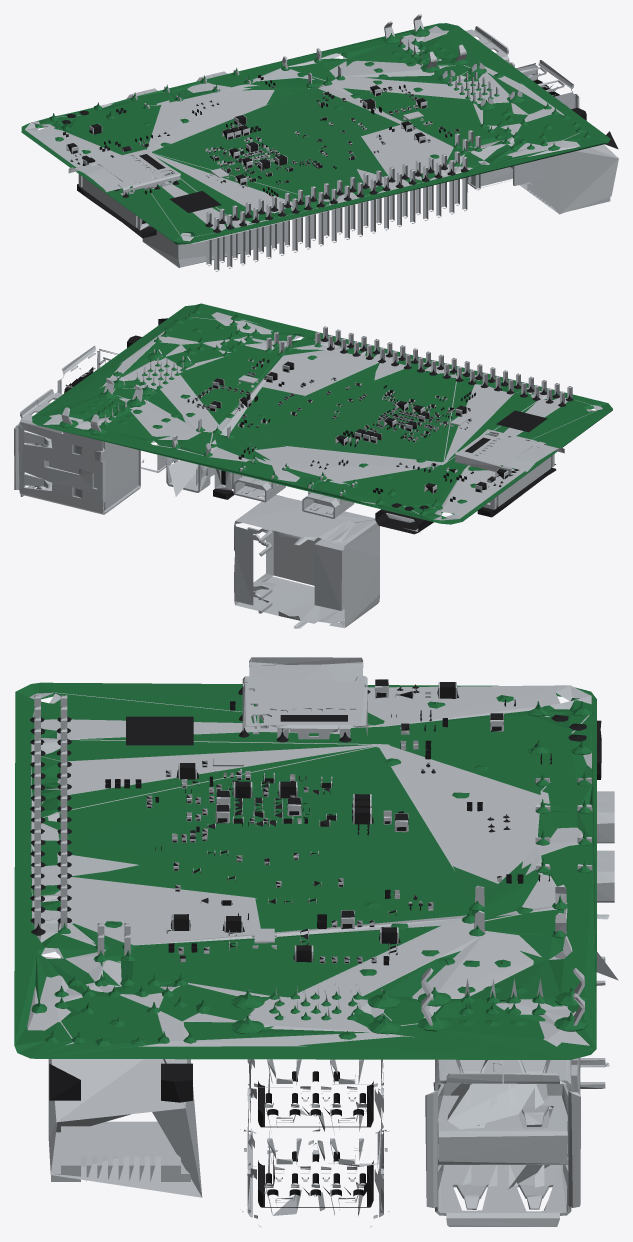
File: raspberry-pi-4b.glb
3 views of the same model, one above another, from view 1: azimuth 30°, elevation 25°; view 2: azimuth 150°, elevation 25°; view 3: azimuth 270°, elevation 25° (orthographic). The views are drawn at different scales.
Parts seen in each view (by area): view 1: part_0, part_6, part_1; view 2: part_0, part_6, part_1; view 3: part_6, part_0, part_1.
Boxes of the visible parts, box(x1,y1,x2,y2) form: part_0: box(25, 14, 618, 271); part_6: box(21, 23, 610, 244); part_1: box(55, 75, 618, 238); part_0: box(14, 312, 602, 628); part_6: box(32, 303, 612, 524); part_1: box(64, 318, 573, 534); part_6: box(14, 682, 596, 1059); part_0: box(27, 657, 618, 1227); part_1: box(30, 679, 601, 1207).
Size of the model in its own units: 92.63 by 29.67 by 58.11.
